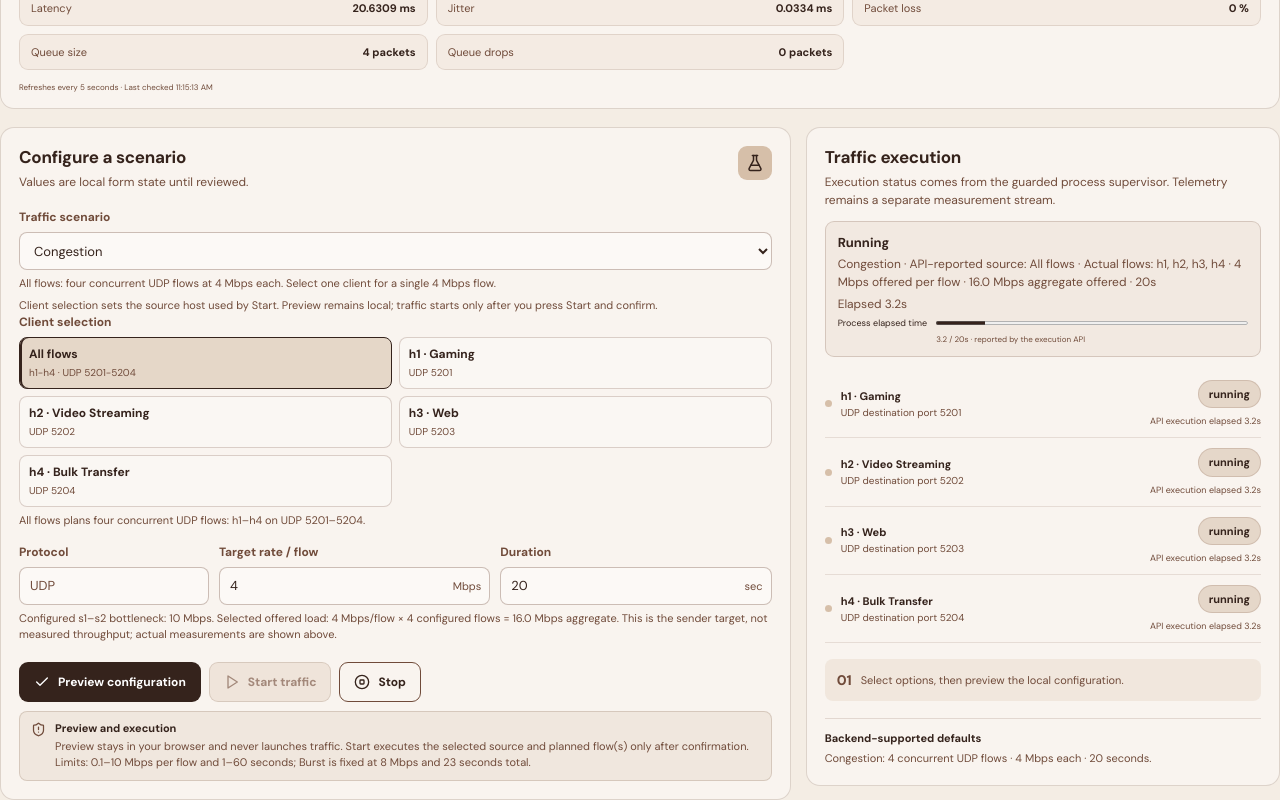
Test: Traffic Lab telemetry and execution boundary › shows the confirmed process lifecycle and sends Stop for its exact ID
(page scrolled)
What coordinates should you click on to do the following:
click the button "Stop"
I would click on:
 (380, 682)
Its box is [339,662,421,702].
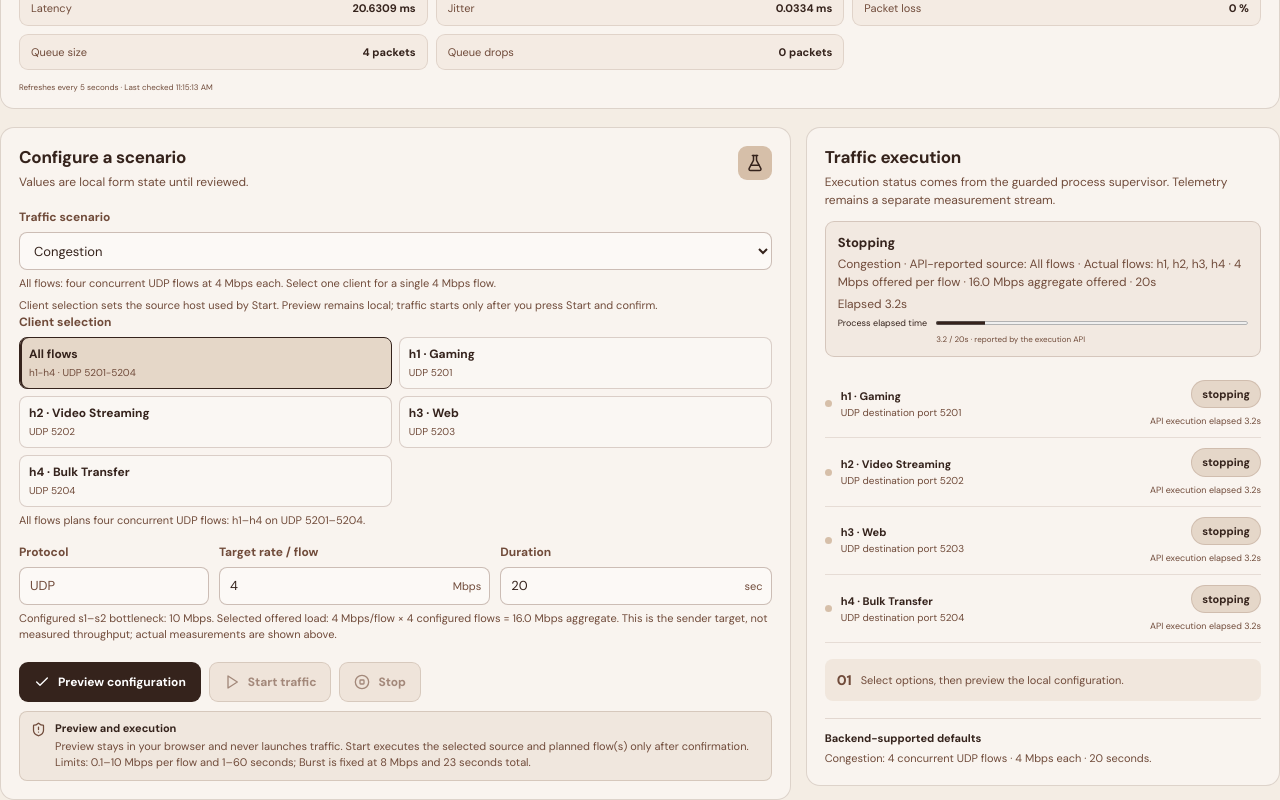
expect the text "Stopping" is shown: met, box [838,234,895,251]
